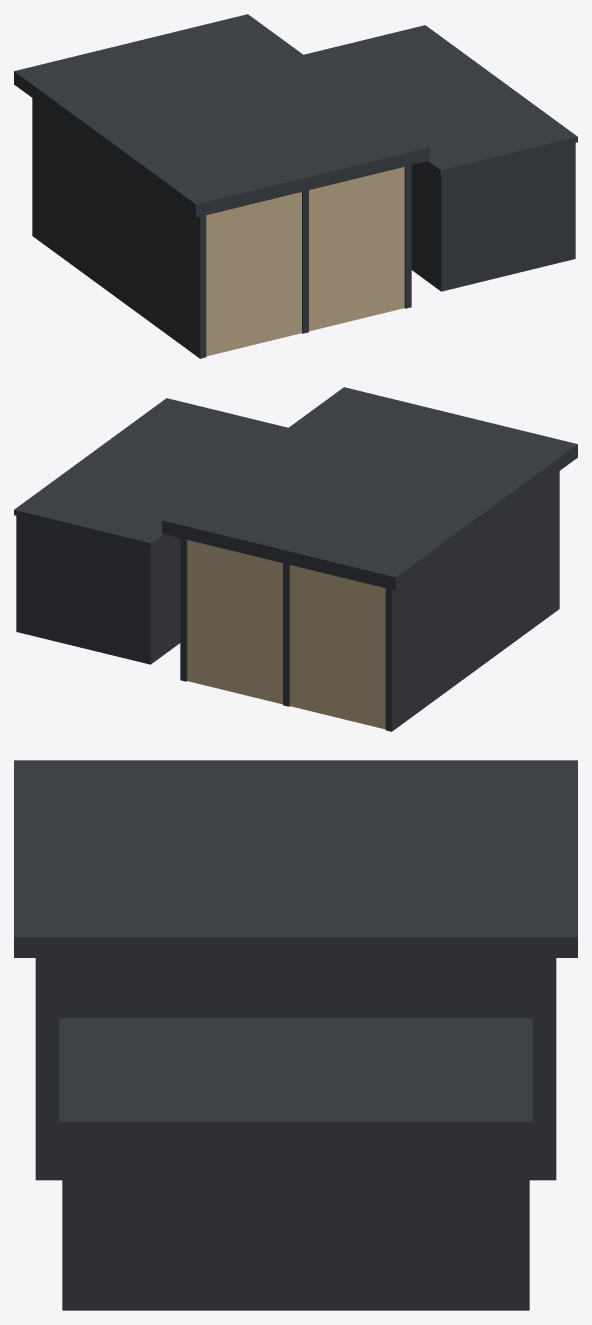
The model's file is roofprop.fbx.
3 renders of one model, top to bottom at view 1: azimuth 30°, elevation 25°; view 2: azimuth 150°, elevation 25°; view 3: azimuth 270°, elevation 25°, orthographic. The views are drawn at different scales.
Visible parts, largest first — view 1: a2019/750/roofprop; view 2: a2019/750/roofprop; view 3: a2019/750/roofprop.
Part boxes in pixels (<box>): a2019/750/roofprop: <box>14,14,577,358</box>; a2019/750/roofprop: <box>14,387,577,731</box>; a2019/750/roofprop: <box>14,760,577,1310</box>.
Size of the model in its own units: 7.8 by 3.05 by 6.2.
